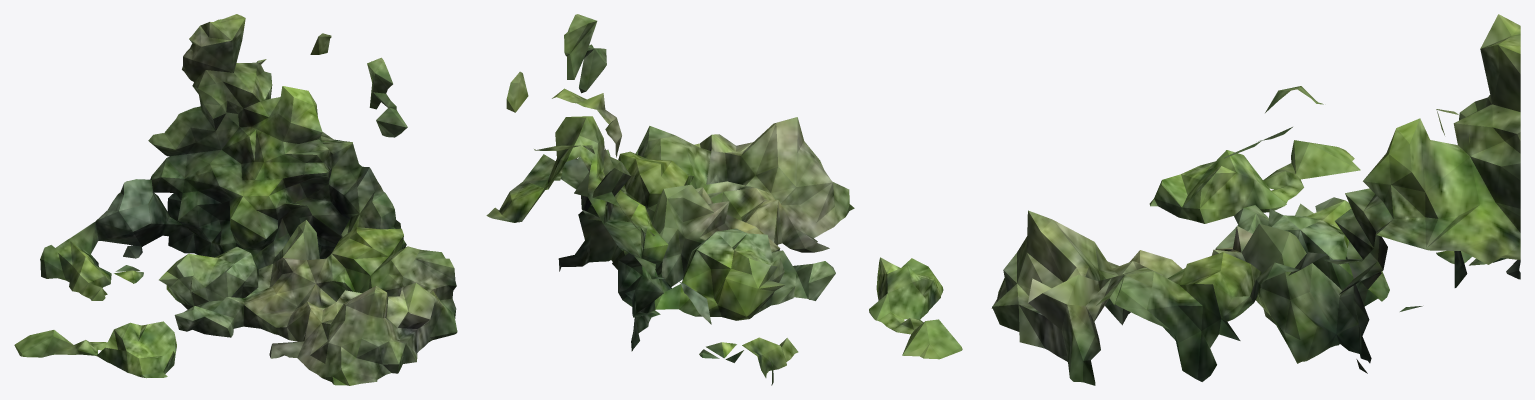
3 views of the same model, side by side, from view 1: azimuth 30°, elevation 25°; view 2: azimuth 150°, elevation 25°; view 3: azimuth 270°, elevation 25° (orthographic). The views are drawn at different scales.
Size of the model in its own units: 32.66 by 19.4 by 30.44.
2 materials, 2 textured.
